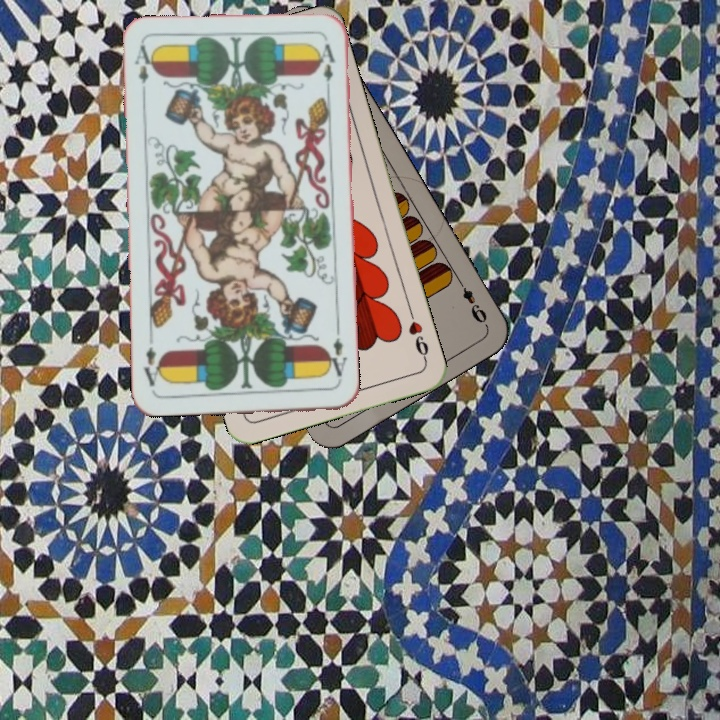E9: (454, 275, 490, 329)
EA: (130, 41, 157, 100), (323, 334, 350, 385)
H9: (404, 307, 431, 365)
